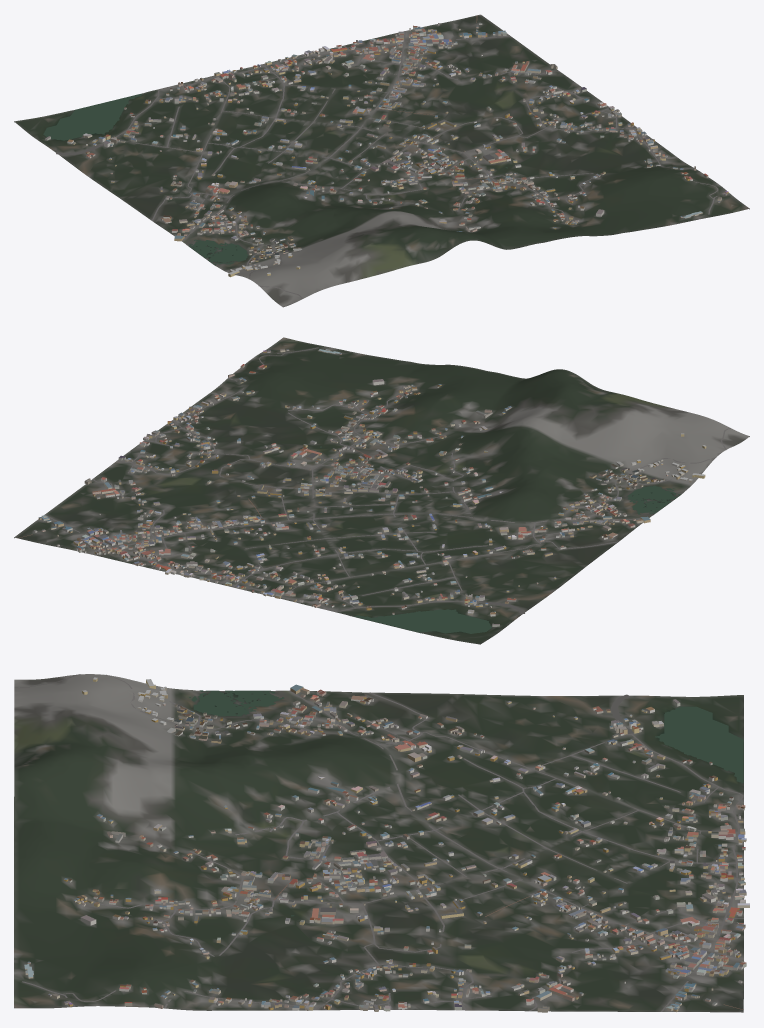
3 renders of one model, top to bottom at view 1: azimuth 30°, elevation 25°; view 2: azimuth 150°, elevation 25°; view 3: azimuth 270°, elevation 25°, orthographic. The views are drawn at different scales.
Visible parts, largest first — view 1: ground, buildings, roads, water; view 2: ground, buildings, roads, water; view 3: ground, buildings, roads, water.
Part boxes in pixels (box(x1,y1,x2,y2)): ground: box(14, 14, 749, 307); buildings: box(45, 22, 728, 277); roads: box(56, 15, 718, 299); water: box(43, 93, 507, 264); ground: box(14, 337, 749, 644); buildings: box(33, 348, 706, 626); roads: box(18, 347, 730, 614); water: box(320, 446, 680, 633); ground: box(14, 674, 743, 1012); buildings: box(24, 677, 749, 1012); roads: box(14, 674, 743, 1011); water: box(189, 690, 743, 916).
Size of the model in its own units: 1425 by 123 by 1414.
